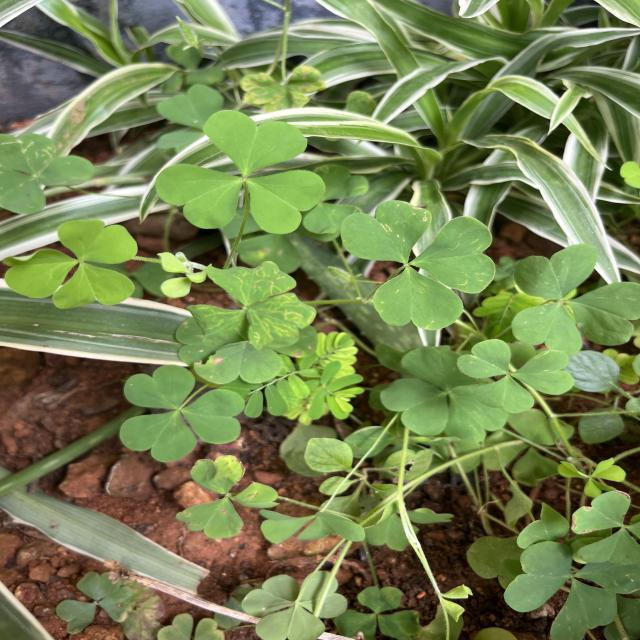Oxalis corniculata: (155, 109, 329, 236), (338, 198, 496, 332), (512, 242, 640, 354), (118, 363, 246, 463), (1, 218, 139, 310), (185, 260, 318, 352), (455, 337, 576, 415)
